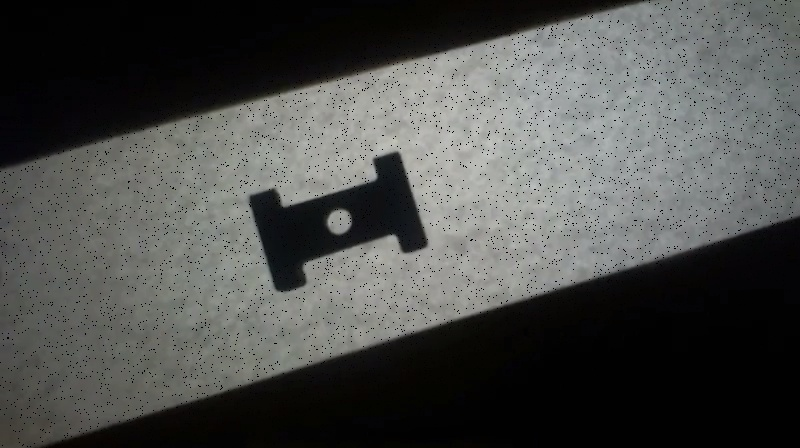O002: (248, 149, 434, 294)
